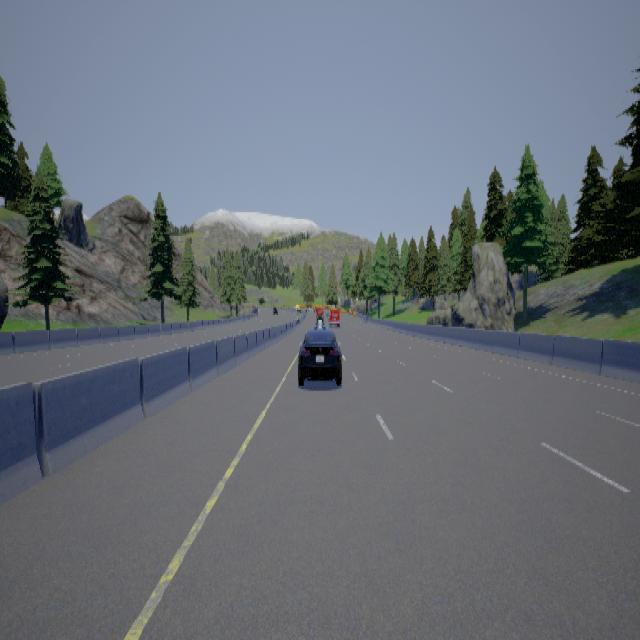vehicle: (297, 307, 341, 384)
